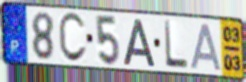5: (93, 14, 122, 68)
8: (30, 10, 56, 62)
A: (189, 22, 224, 72), (122, 18, 157, 67)
C: (57, 11, 88, 65)
L: (163, 18, 190, 71)
